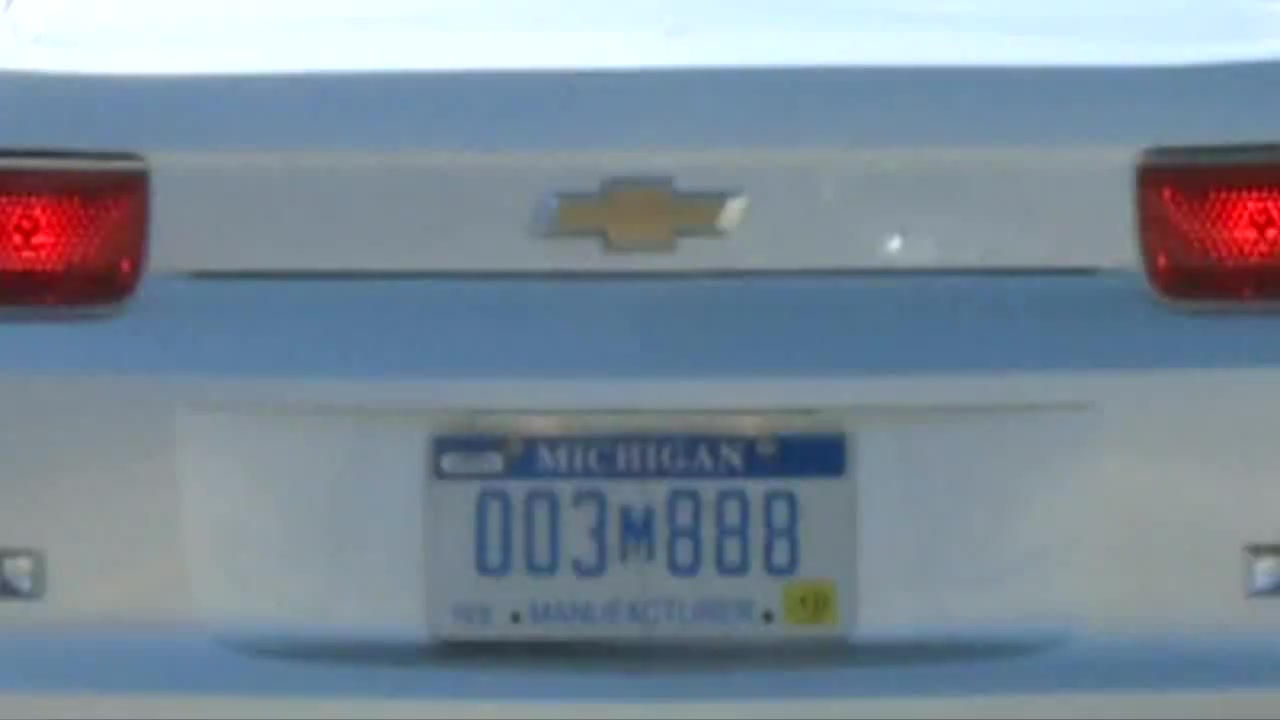car: (2, 1, 1280, 720)
